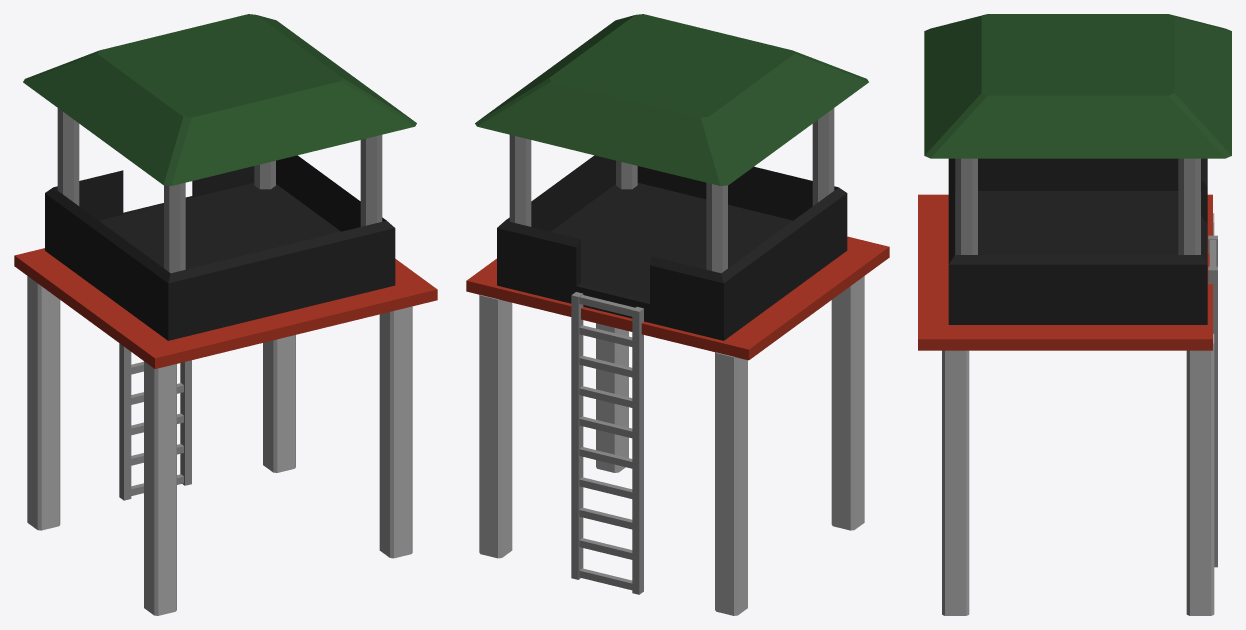
The model's file is watchtower.glb.
The picture shows the model from 3 angles, left to right: view 1: azimuth 30°, elevation 25°; view 2: azimuth 150°, elevation 25°; view 3: azimuth 270°, elevation 25°; orthographic projection. The views are drawn at different scales.
Visible parts, largest first — view 1: SniperTower; view 2: SniperTower; view 3: SniperTower.
Boxes of the visible parts, x1=… form: SniperTower: x1=14, y1=14, x2=437, y2=615; SniperTower: x1=466, y1=14, x2=889, y2=615; SniperTower: x1=918, y1=14, x2=1231, y2=615.
Bounding box in the file's own units: 7.93 × 12.66 × 7.27.
